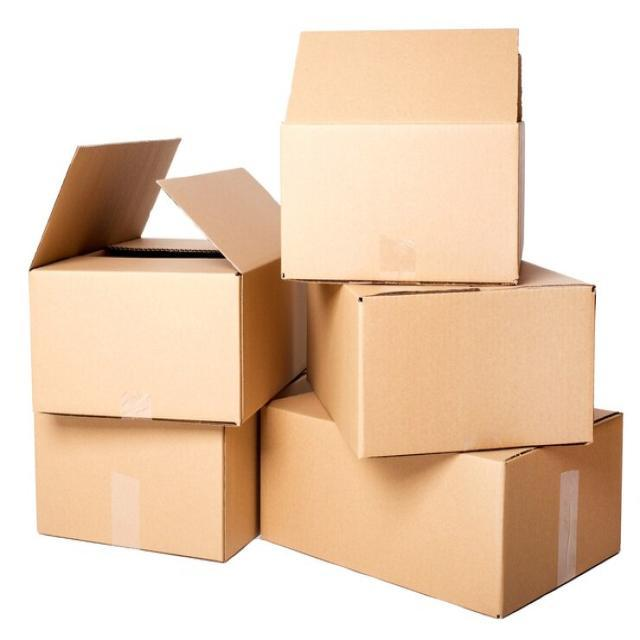BoxFace: (258, 402, 502, 620), (358, 284, 594, 460), (279, 123, 519, 281), (31, 272, 242, 425), (35, 415, 224, 561)
